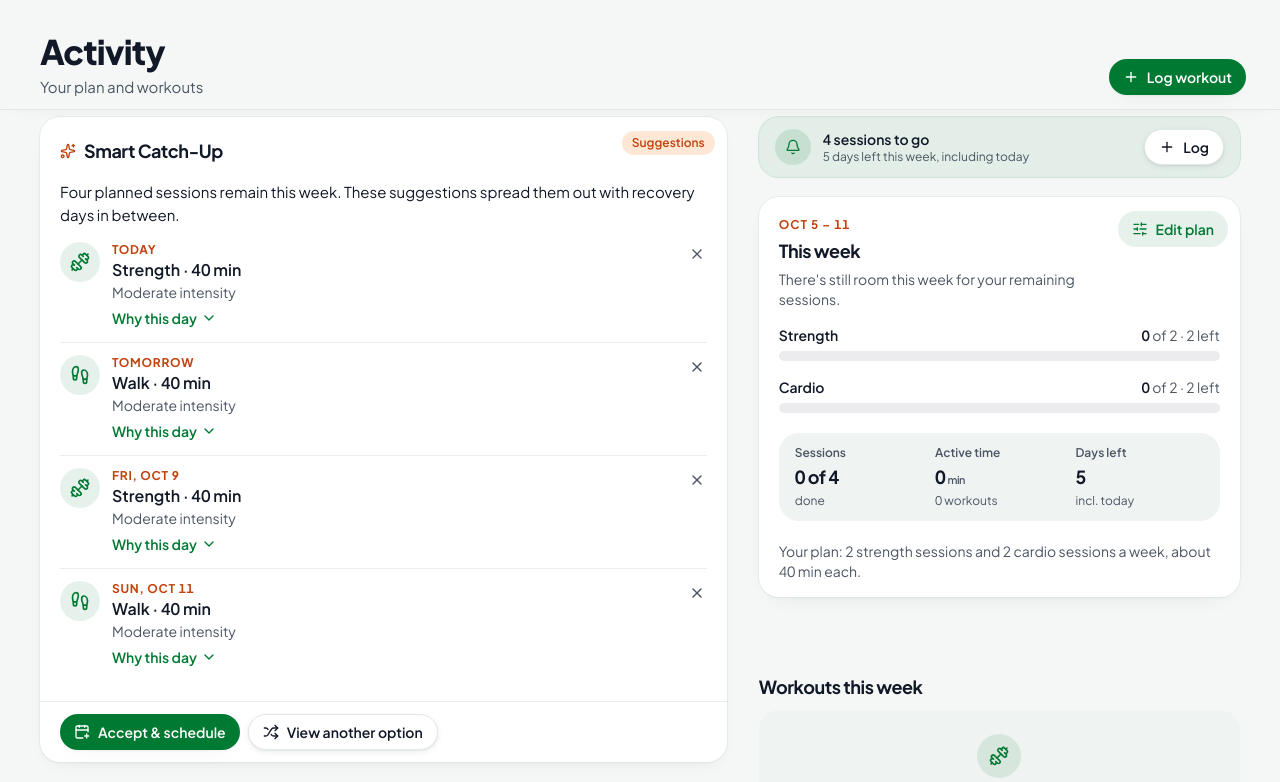
Activity: informational kcal estimate › estimates from the latest weigh-in, shown in the profile units
Expected: the heading "This week" is shown, x1=779 y1=239 x2=860 y2=262
Click the button "Log workout": click(1177, 77) x1=1109 y1=59 x2=1246 y2=95
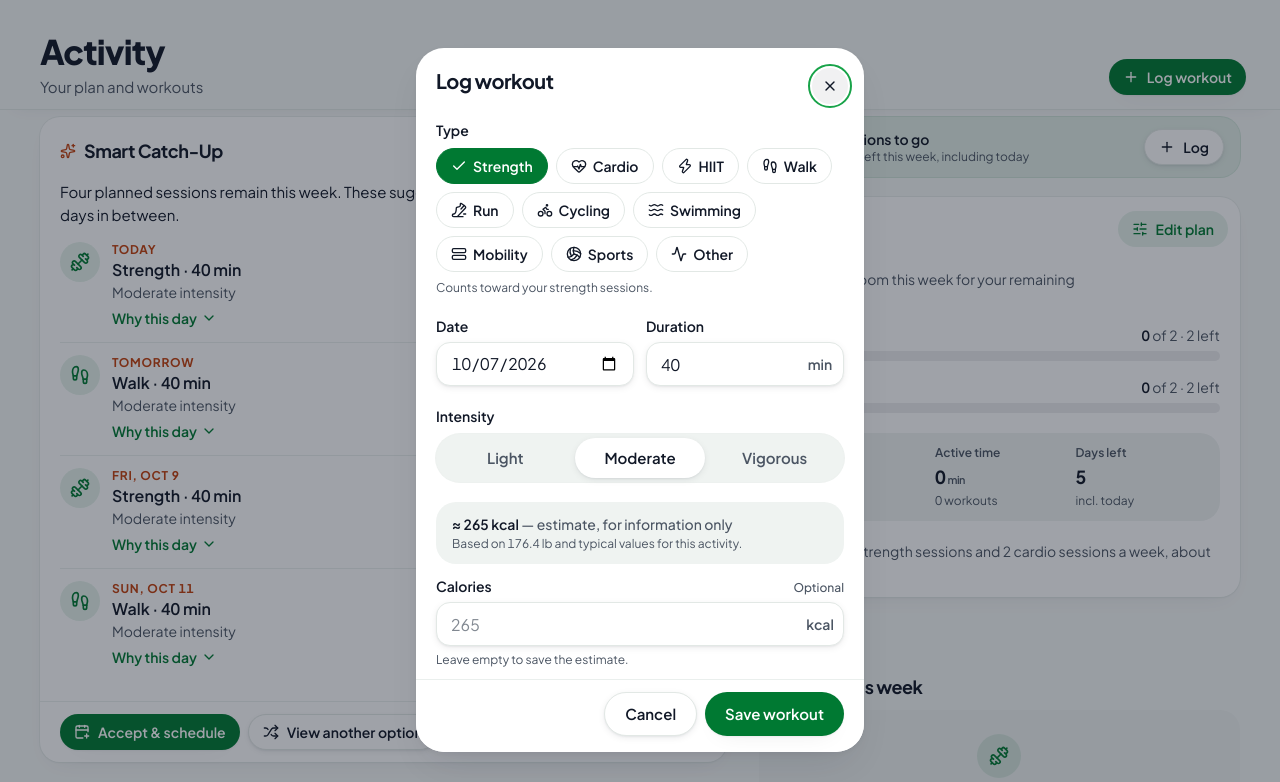
Expected: the text "≈ 265 kcal" is shown, x1=452 y1=515 x2=519 y2=533
Expected: the text "Based on 176.4 lb and typical values for this activity." is shown, x1=452 y1=536 x2=742 y2=551
